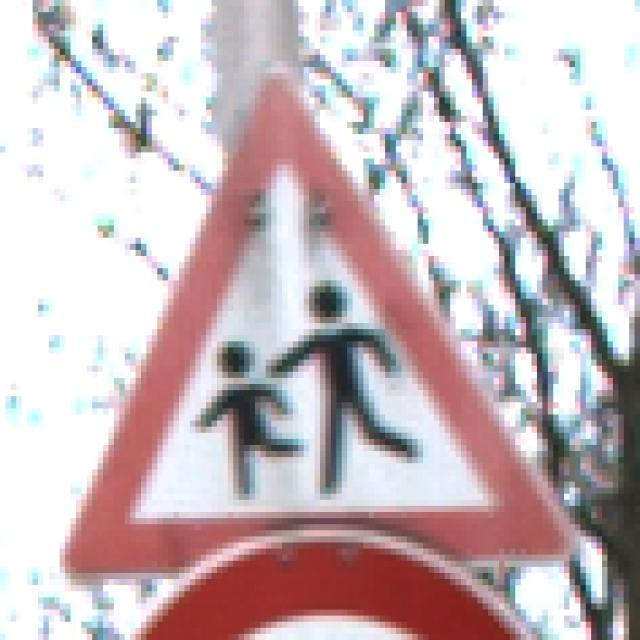school ahead: (61, 76, 567, 573)
